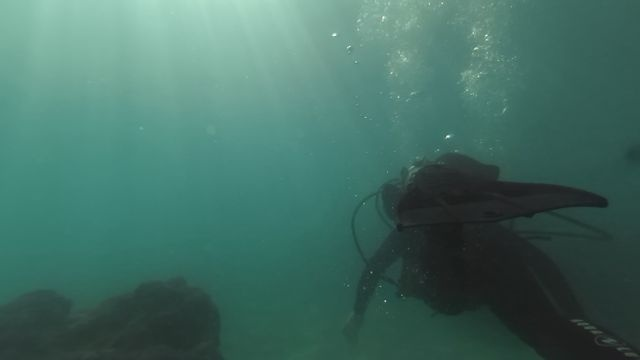Diver: (318, 132, 636, 358)
Hand: (330, 304, 369, 342)
